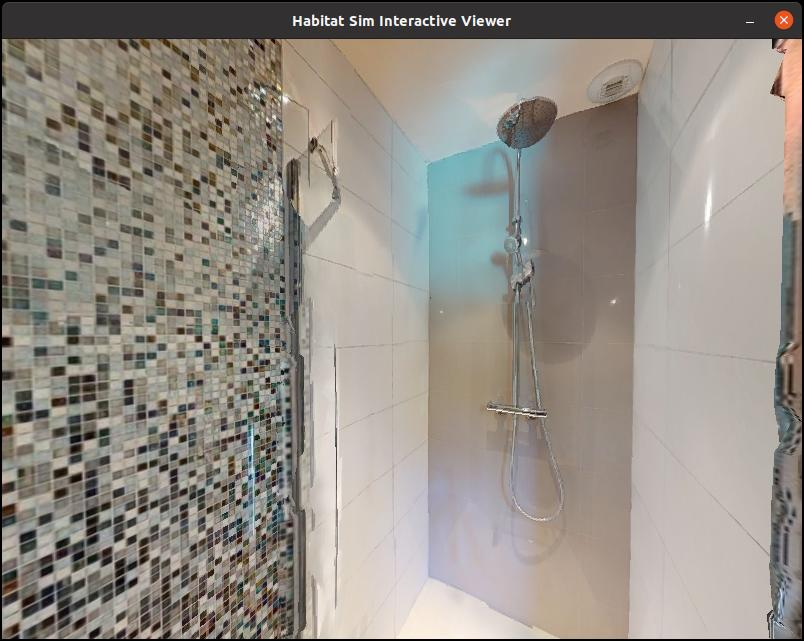shower: (261, 40, 768, 641)
